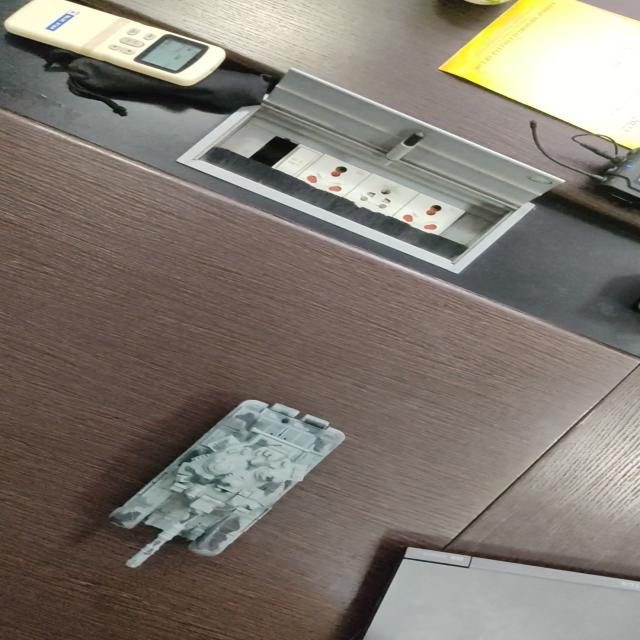tank: (114, 399, 348, 568)
